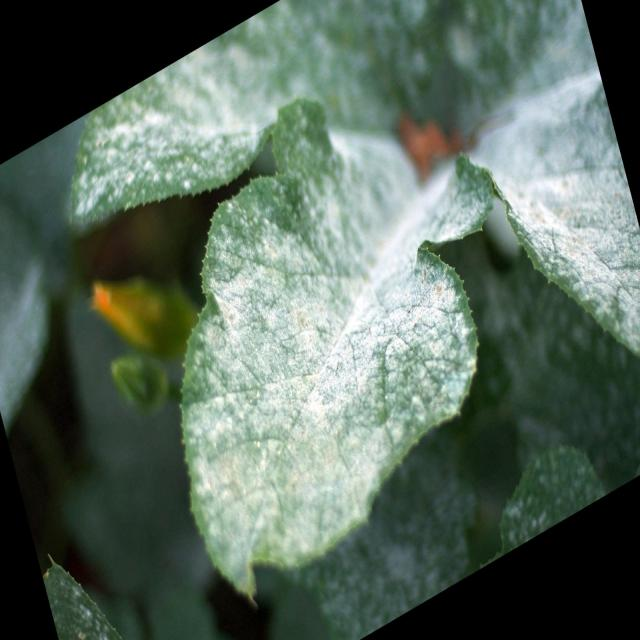Powdery Mildew: (178, 96, 492, 606)
